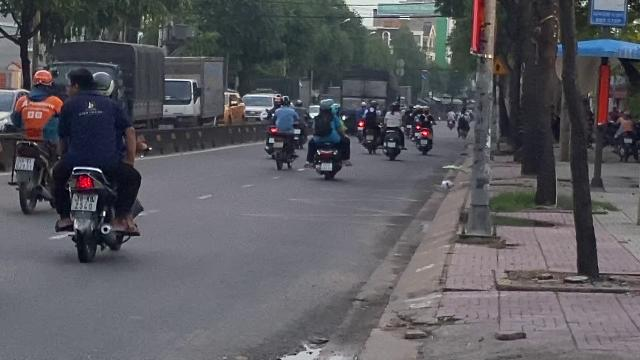helmet: (91, 71, 113, 95), (29, 68, 52, 90)
licenseplate: (72, 193, 98, 211), (15, 158, 33, 170)
motorcyclist: (48, 65, 146, 264), (5, 67, 61, 213)
nohelmet: (66, 69, 94, 95)
